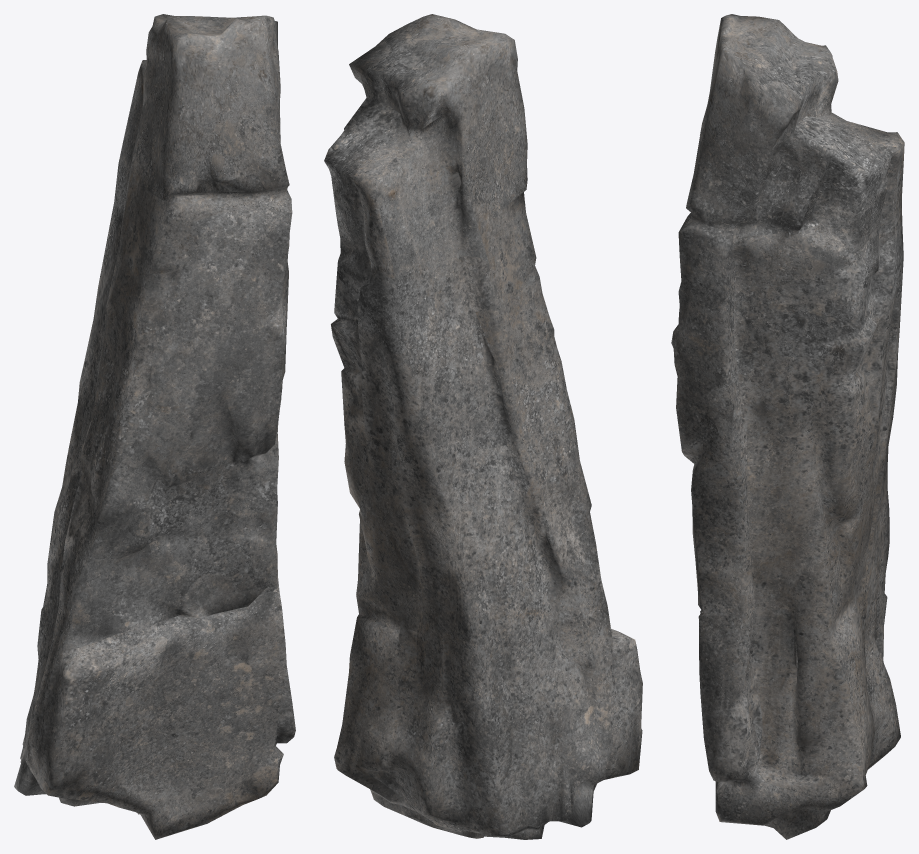
File: SM_Rock_3.fbx
3 renders of one model, left to right at view 1: azimuth 30°, elevation 25°; view 2: azimuth 150°, elevation 25°; view 3: azimuth 270°, elevation 25°, orthographic. The views are drawn at different scales.
Visible parts, largest first — view 1: SM_Rock_3_LOD0; view 2: SM_Rock_3_LOD0; view 3: SM_Rock_3_LOD0.
Part boxes in pixels (bbox=[...]): SM_Rock_3_LOD0: bbox=[14, 14, 295, 839]; SM_Rock_3_LOD0: bbox=[324, 14, 642, 839]; SM_Rock_3_LOD0: bbox=[671, 14, 904, 839].
Size of the model in its own units: 381 by 294 by 1110.
